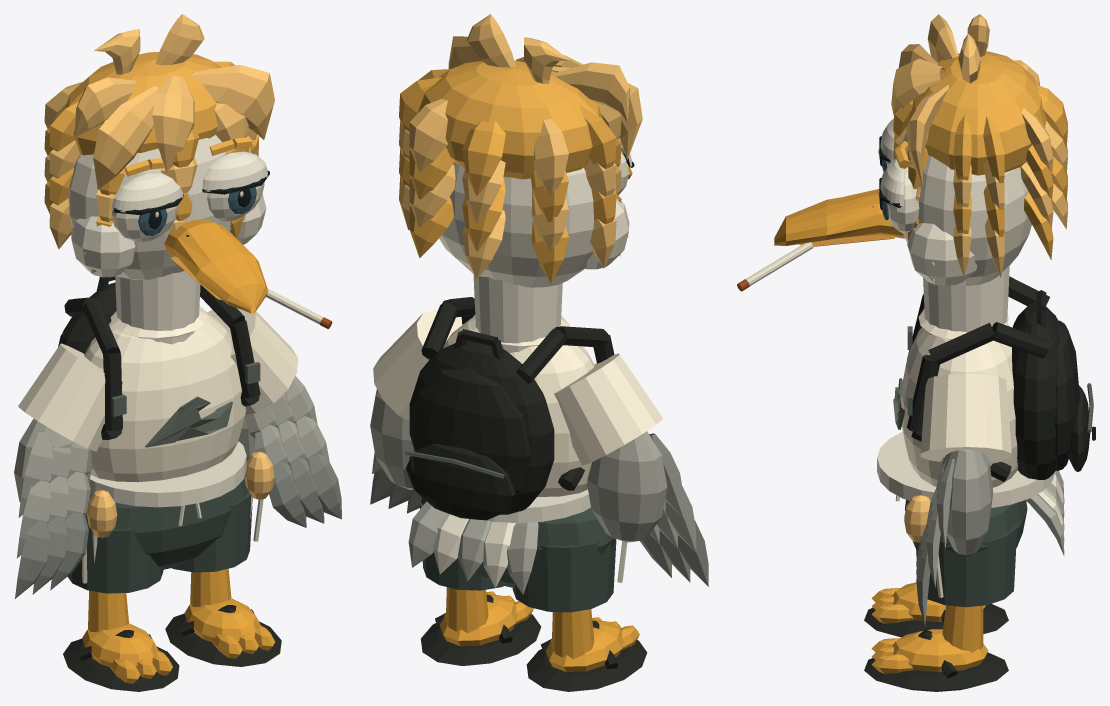
The model's file is Gringull.glb.
3 views of the same model, side by side, from view 1: azimuth 30°, elevation 25°; view 2: azimuth 150°, elevation 25°; view 3: azimuth 270°, elevation 25° (orthographic). The views are drawn at different scales.
Visible parts, largest first — view 1: Gringull; view 2: Gringull; view 3: Gringull.
Part boxes in pixels (x1=…): Gringull: x1=14, y1=14, x2=341, y2=691; Gringull: x1=370, y1=14, x2=708, y2=691; Gringull: x1=737, y1=14, x2=1095, y2=691.
Size of the model in its own units: 1.66 by 3.06 by 1.57.
Materials: 1 (1 with a texture image).
